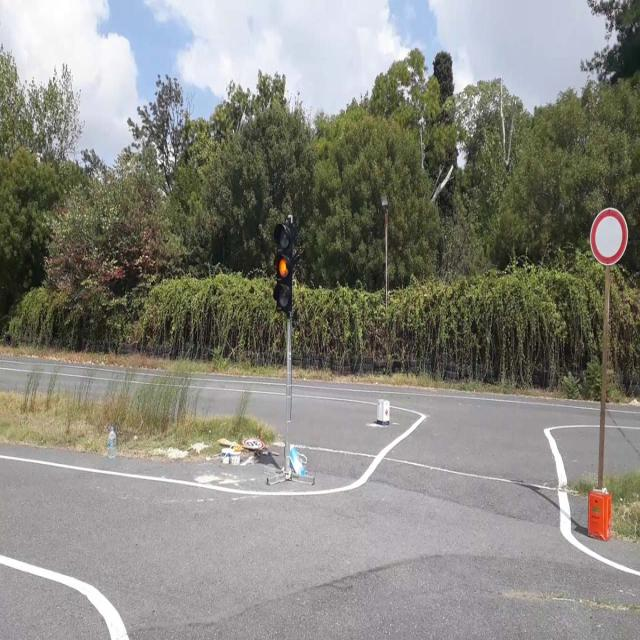sari: (274, 222, 293, 312)
